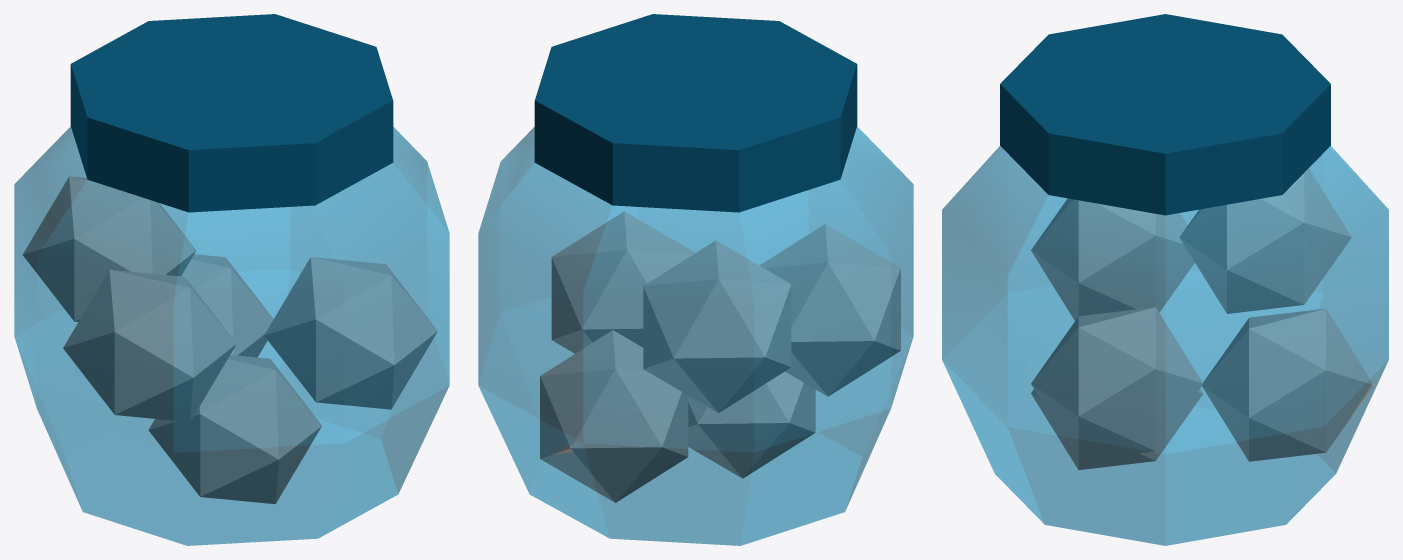
File: GlassJar.fbx
3 views of the same model, side by side, from view 1: azimuth 30°, elevation 25°; view 2: azimuth 150°, elevation 25°; view 3: azimuth 270°, elevation 25° (orthographic).
Visible parts, largest first — view 1: GlassJar; view 2: GlassJar; view 3: GlassJar.
Boxes of the visible parts, <box> form: GlassJar: <box>14,14,449,545</box>; GlassJar: <box>478,14,913,545</box>; GlassJar: <box>942,14,1388,545</box>.
Size of the model in its own units: 1.22 by 1.18 by 1.22.
